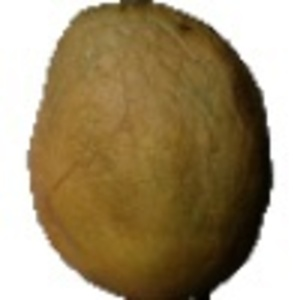mamão: (21, 2, 274, 293)
